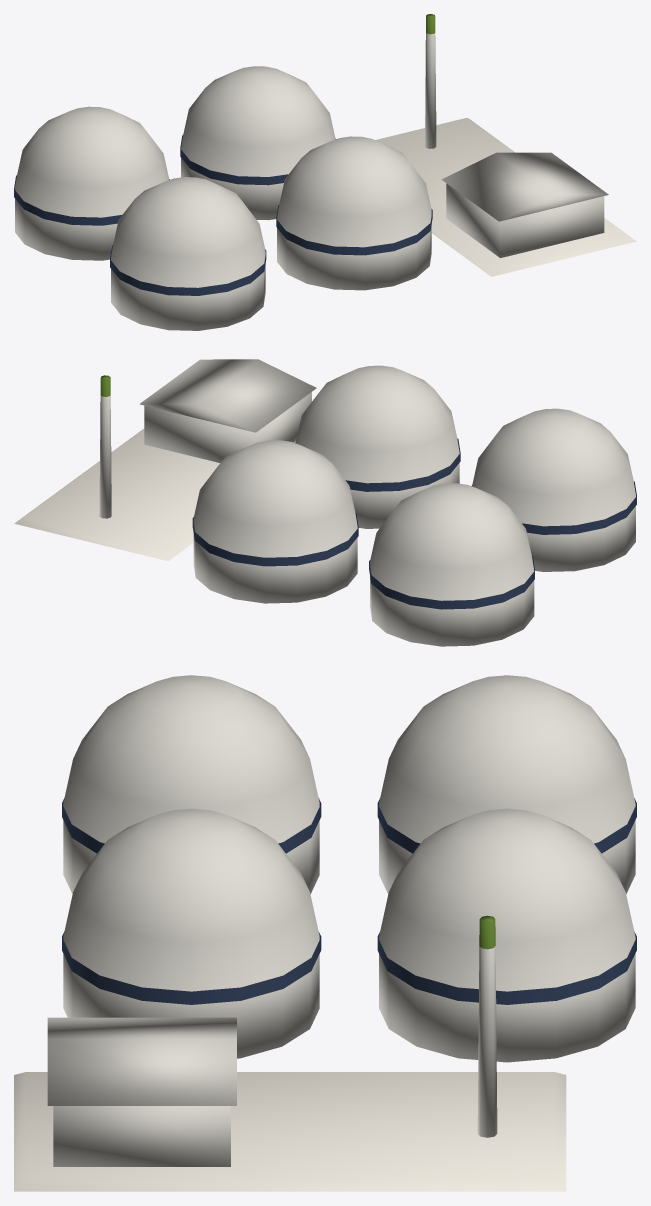
The model's file is biogas.glb.
3 views of the same model, one above another, from view 1: azimuth 30°, elevation 25°; view 2: azimuth 150°, elevation 25°; view 3: azimuth 270°, elevation 25° (orthographic). The views are drawn at different scales.
Parts seen in each view (by area): view 1: biogas; view 2: biogas; view 3: biogas.
Part boxes in pixels (x1,y1,x2,y2): biogas: (14,14,636,330); biogas: (14,359,636,646); biogas: (14,675,636,1191).
Bounding box in the file's own units: 89.15 × 24.9 × 63.15.
